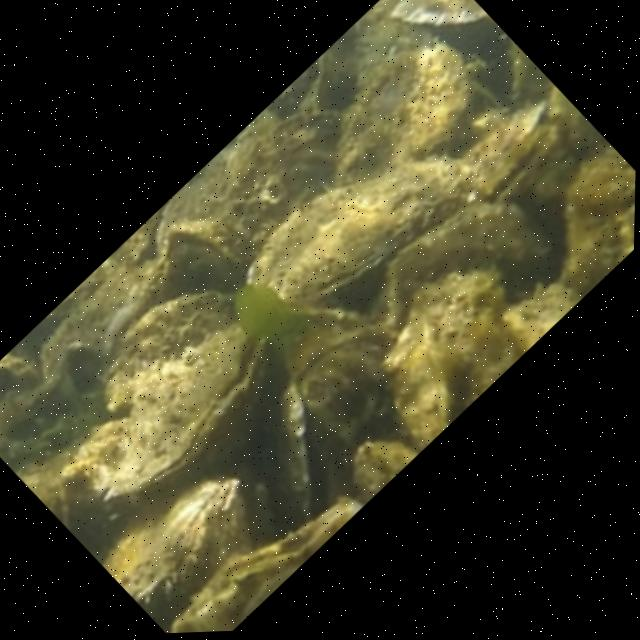Oyster-Closed: (245, 155, 479, 308), (107, 291, 269, 498), (171, 495, 365, 633), (275, 384, 341, 526), (473, 124, 558, 204)
Oyster-Indeterminate: (385, 270, 525, 452), (371, 202, 551, 324), (102, 482, 250, 620), (334, 39, 474, 182), (158, 106, 280, 249), (232, 109, 352, 252), (291, 322, 397, 455), (26, 415, 131, 540), (563, 152, 636, 296), (460, 102, 548, 199), (169, 219, 249, 291), (357, 8, 435, 80), (507, 285, 581, 350), (296, 44, 356, 110), (354, 439, 418, 498), (548, 86, 605, 147), (373, 0, 481, 25)
